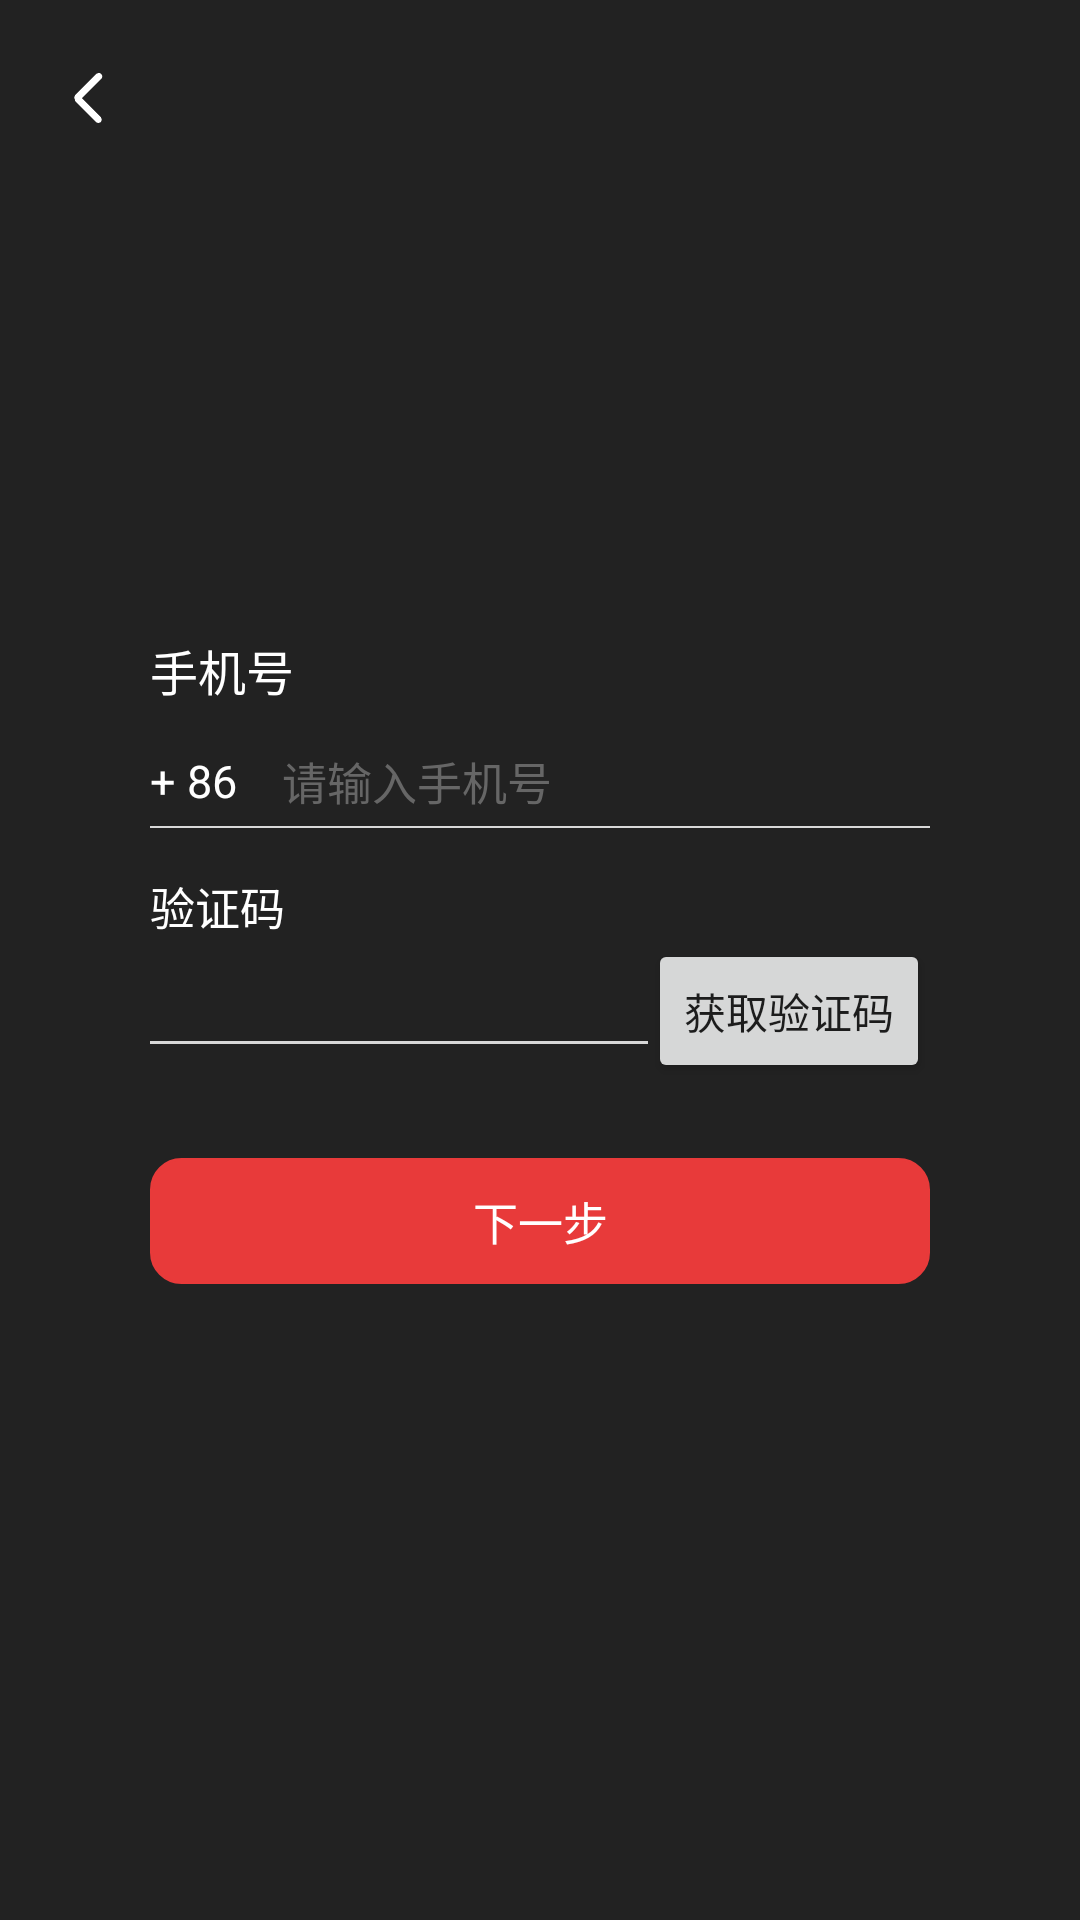

Locate icon controls on the screen. Image size 1080 × 1920, boxes as (x1, y1, x2, y2).
back: (74, 73, 103, 123)
